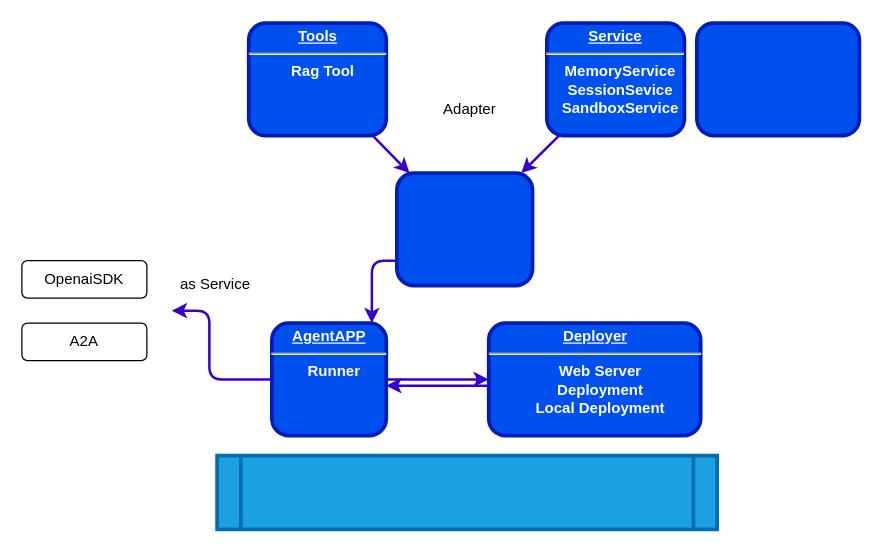
The diagram is 883 pixels wide and 553 high, and some of its shapes have lost their labels. The box of each missing label's shape, as (x1, y1, x2, y2) in pixels:
Agent AgentScope: (394, 171, 534, 287)
AgentScope Runtime orchestrates agent execution and deployment management: (215, 453, 718, 531)
Sandbox BrowserSandbox FileSystemSandbox GuiSandbox: (694, 21, 861, 137)
